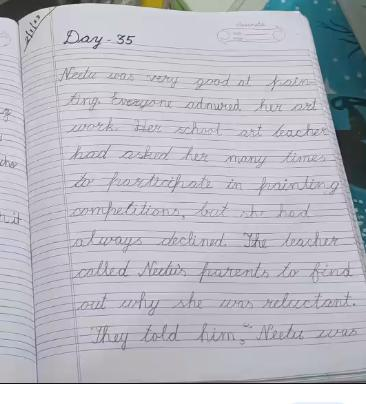text: (90, 322, 359, 352), (78, 289, 356, 318), (66, 227, 340, 256), (56, 64, 312, 94), (67, 142, 329, 170), (73, 260, 354, 286), (70, 171, 342, 196), (64, 115, 328, 139), (70, 198, 314, 223), (61, 90, 320, 113), (63, 28, 136, 50), (22, 12, 42, 44), (2, 208, 23, 226), (232, 19, 268, 28), (3, 153, 18, 172), (1, 102, 12, 123)
